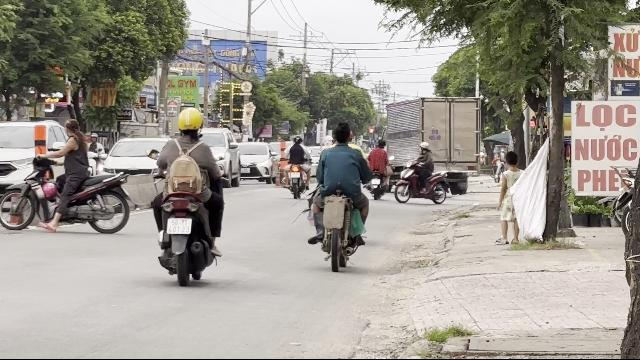helmet: (175, 107, 203, 137)
licenseplate: (166, 218, 192, 234)
motorcyclist: (2, 117, 138, 244), (148, 106, 226, 284), (304, 121, 372, 271)
nohelmet: (62, 118, 84, 140), (331, 122, 352, 144)
